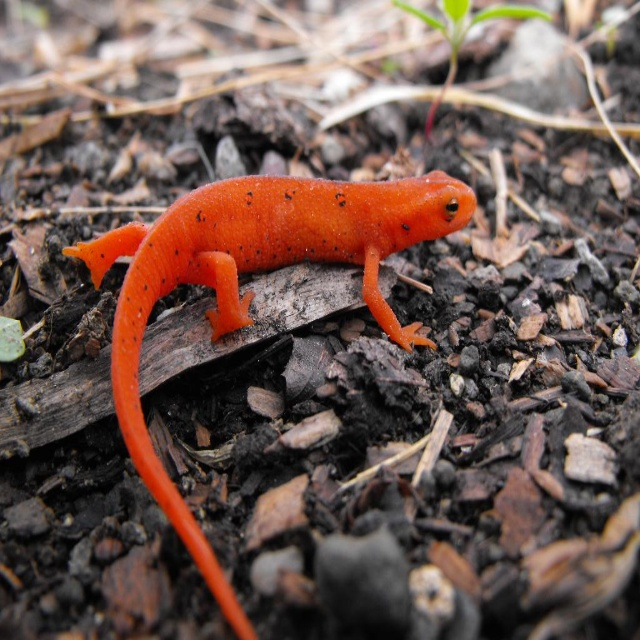Lizard: (62, 170, 477, 640)
